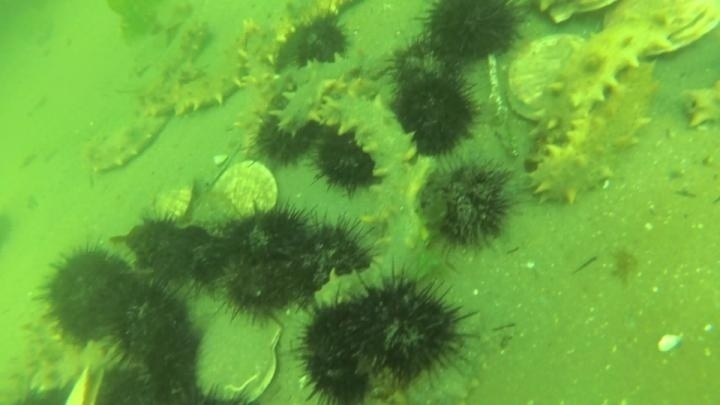echinus: (339, 276, 476, 405), (208, 201, 319, 326), (38, 239, 141, 346), (95, 276, 198, 374), (293, 296, 384, 404), (418, 155, 517, 253), (281, 213, 379, 305), (392, 70, 481, 160), (215, 250, 302, 327), (220, 200, 314, 271), (420, 1, 524, 64), (120, 210, 203, 287), (141, 320, 206, 403), (276, 12, 354, 73), (311, 130, 381, 195), (387, 34, 455, 95), (250, 113, 314, 168), (186, 223, 240, 286), (92, 362, 160, 405)
holothurian: (523, 5, 697, 156), (316, 86, 436, 267), (525, 57, 667, 208), (9, 325, 159, 405), (146, 23, 255, 125), (269, 48, 383, 139), (121, 19, 217, 103), (84, 110, 172, 176), (238, 9, 298, 93), (310, 259, 401, 313), (19, 307, 69, 395), (108, 1, 201, 42), (677, 77, 719, 133), (282, 1, 353, 31)
scallop: (186, 295, 284, 404), (504, 31, 591, 123), (183, 158, 282, 236), (265, 299, 322, 404), (645, 1, 719, 61), (145, 178, 199, 229), (532, 1, 624, 30)
